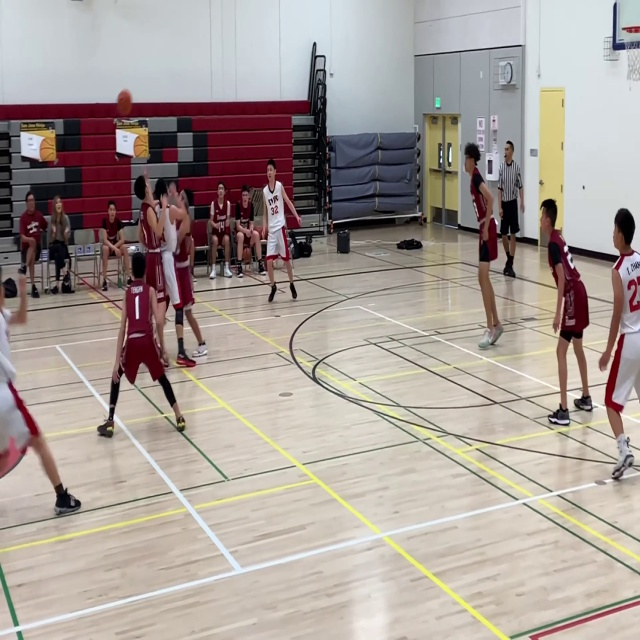Basketball: (116, 89, 132, 116)
